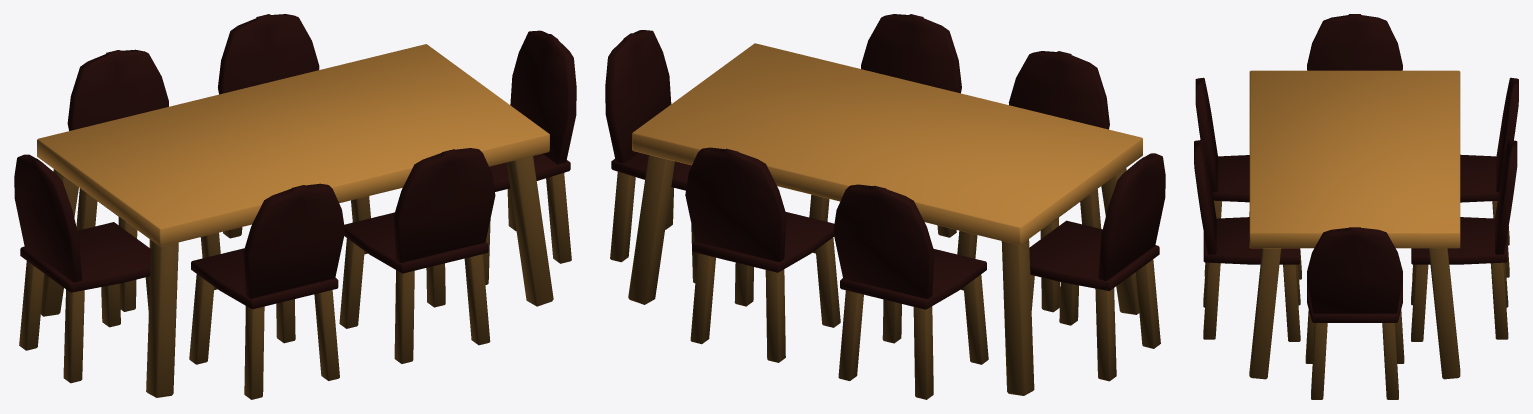
The picture shows the model from 3 angles, left to right: view 1: azimuth 30°, elevation 25°; view 2: azimuth 150°, elevation 25°; view 3: azimuth 270°, elevation 25°; orthographic projection. The views are drawn at different scales.
Visible parts, largest first — view 1: Cube, Cube.003, Cube.004, Cube.002, Cube.001, Cube.006, Cube.005; view 2: Cube, Cube.006, Cube.005, Cube.002, Cube.001, Cube.003, Cube.004; view 3: Cube, Cube.001, Cube.005, Cube.004, Cube.002, Cube.006, Cube.003.
Part boxes in pixels (left/top/right/bottom): Cube: left=37, top=44, right=553, bottom=397; Cube.003: left=189, top=183, right=345, bottom=399; Cube.004: left=339, top=148, right=495, bottom=363; Cube.002: left=14, top=154, right=150, bottom=383; Cube.001: left=483, top=30, right=576, bottom=284; Cube.006: left=67, top=49, right=220, bottom=311; Cube.005: left=218, top=14, right=370, bottom=254; Cube: left=628, top=43, right=1142, bottom=395; Cube.006: left=833, top=184, right=988, bottom=399; Cube.005: left=685, top=147, right=840, bottom=362; Cube.002: left=1029, top=153, right=1165, bottom=381; Cube.001: left=605, top=30, right=697, bottom=283; Cube.003: left=957, top=51, right=1109, bottom=312; Cube.004: left=809, top=14, right=961, bottom=253; Cube: left=1249, top=70, right=1460, bottom=379; Cube.001: left=1305, top=227, right=1404, bottom=399; Cube.005: left=1411, top=140, right=1517, bottom=341; Cube.004: left=1194, top=140, right=1300, bottom=341; Cube.002: left=1307, top=14, right=1402, bottom=70; Cube.006: left=1412, top=77, right=1518, bottom=277; Cube.003: left=1195, top=77, right=1301, bottom=279.
Bounding box in the file's own units: 487 × 187 × 309.
Materials: 1 (1 with a texture image).
